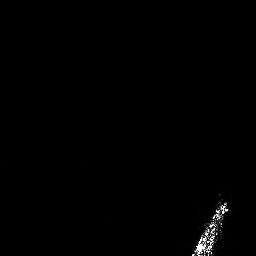ship: (188, 195, 230, 256)
